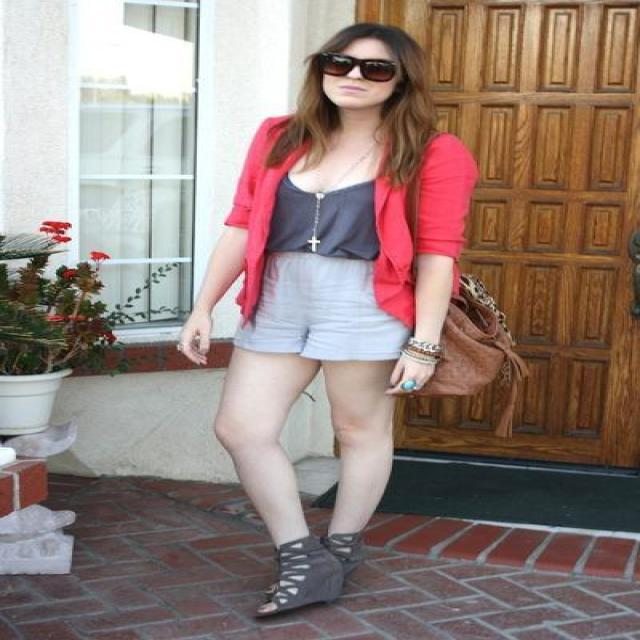bag: (414, 276, 526, 401)
jacket: (224, 134, 477, 328)
shirt: (258, 176, 379, 268)
shoe: (264, 527, 381, 595)
shorts: (219, 253, 405, 359)
sunglass: (341, 57, 394, 81)
